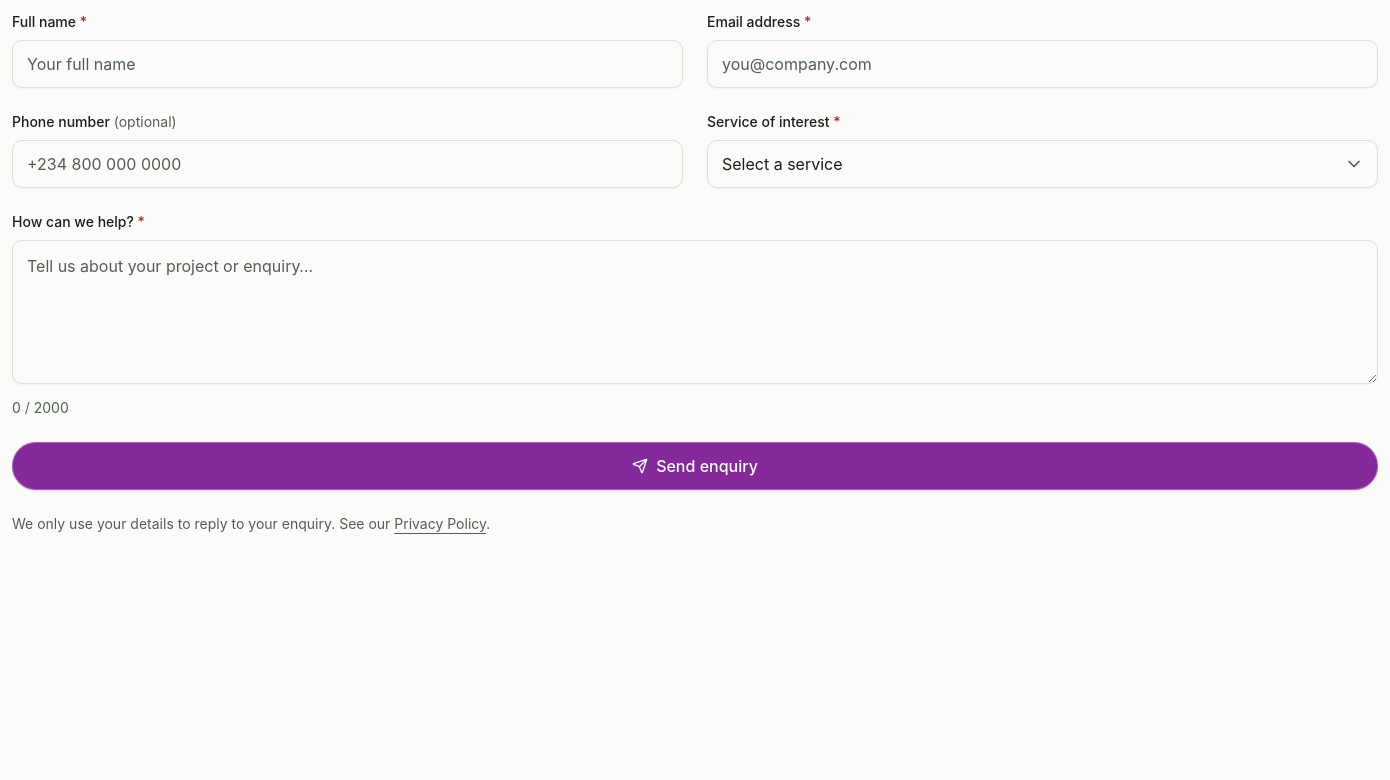
EnquiryForm: submission › shows a clear confirmation with the reference (scope 4.5)
Type "Ada Okafor" into the field labelled "Full name *".
click(348, 64); type("Ada Okafor")  # box [12,40,683,88]
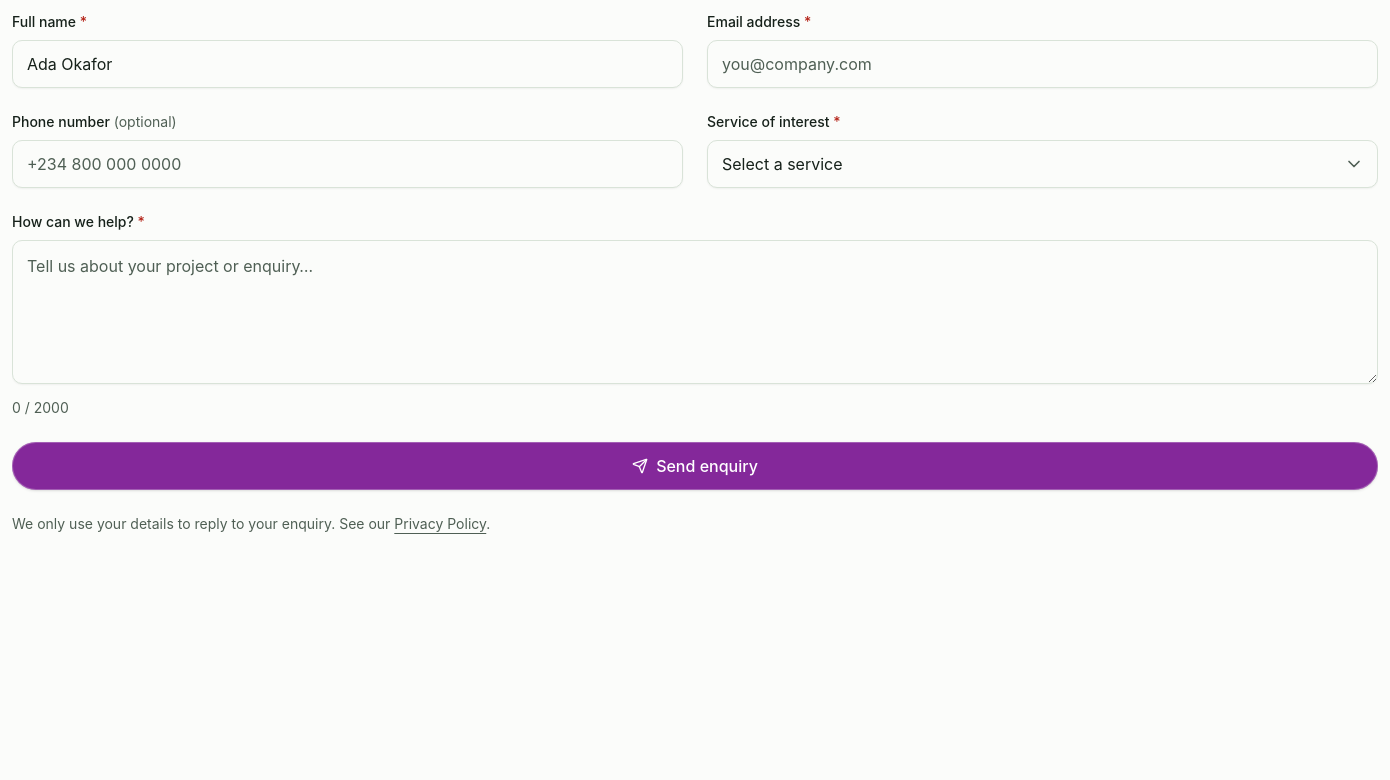
Type "ada@example.com" into the field labelled "Email address *".
click(1042, 64); type("ada@example.com")  # box [707,40,1378,88]
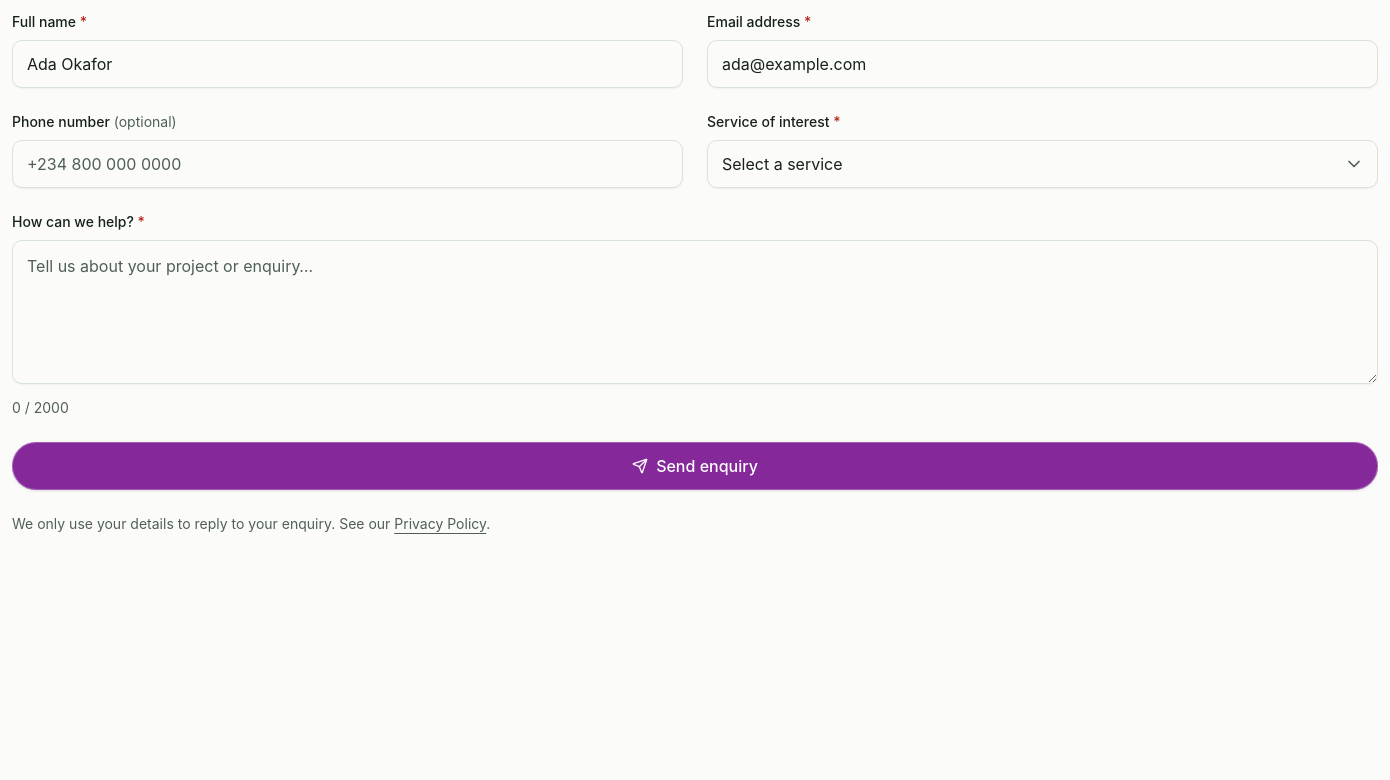
Select "Solar PV & Renewable Energy Solutions" in the dropdown labelled "Service of interest *" at (1042, 164), box [707,140,1378,188]
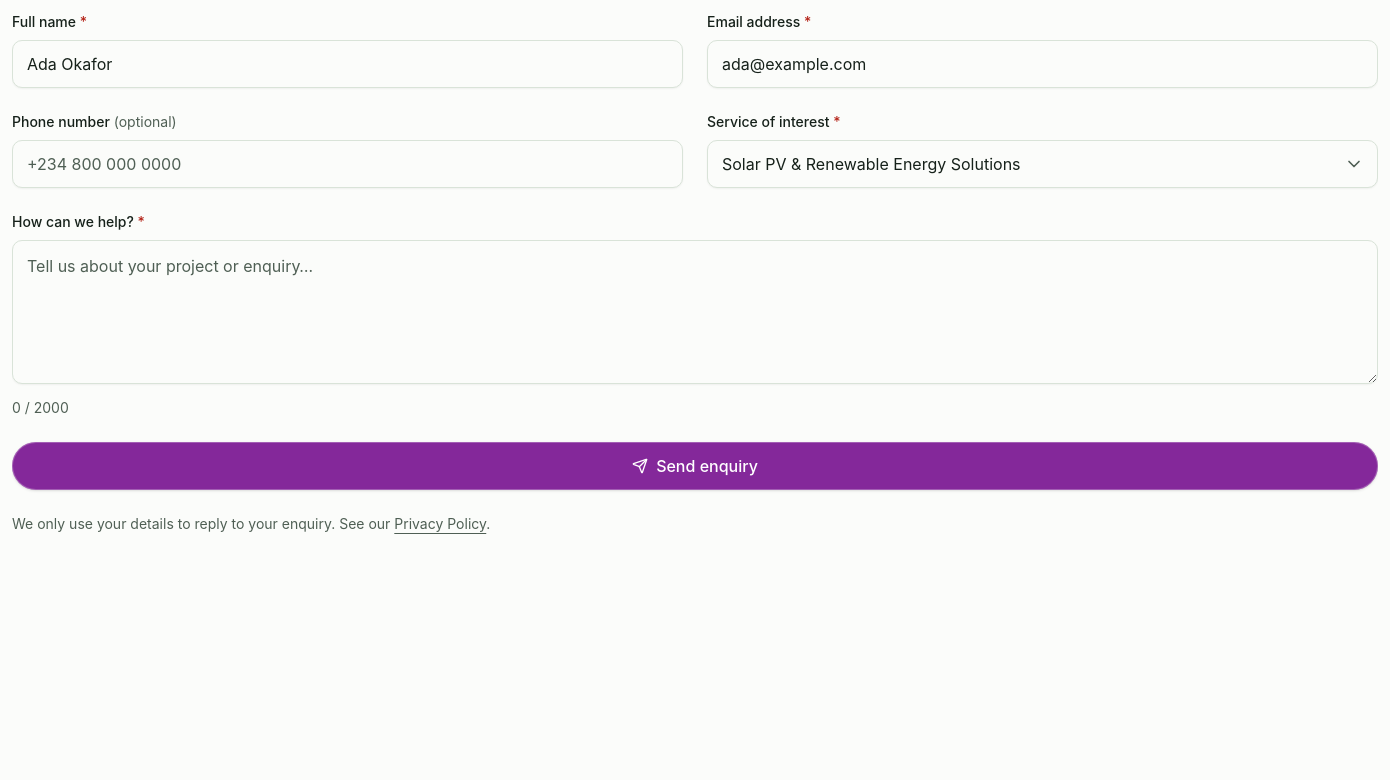
Type "We would like a solar quote for our mill." into the text box labelled "How can we help? *".
click(695, 312); type("We would like a solar quote for our mill.")  # box [12,240,1378,384]
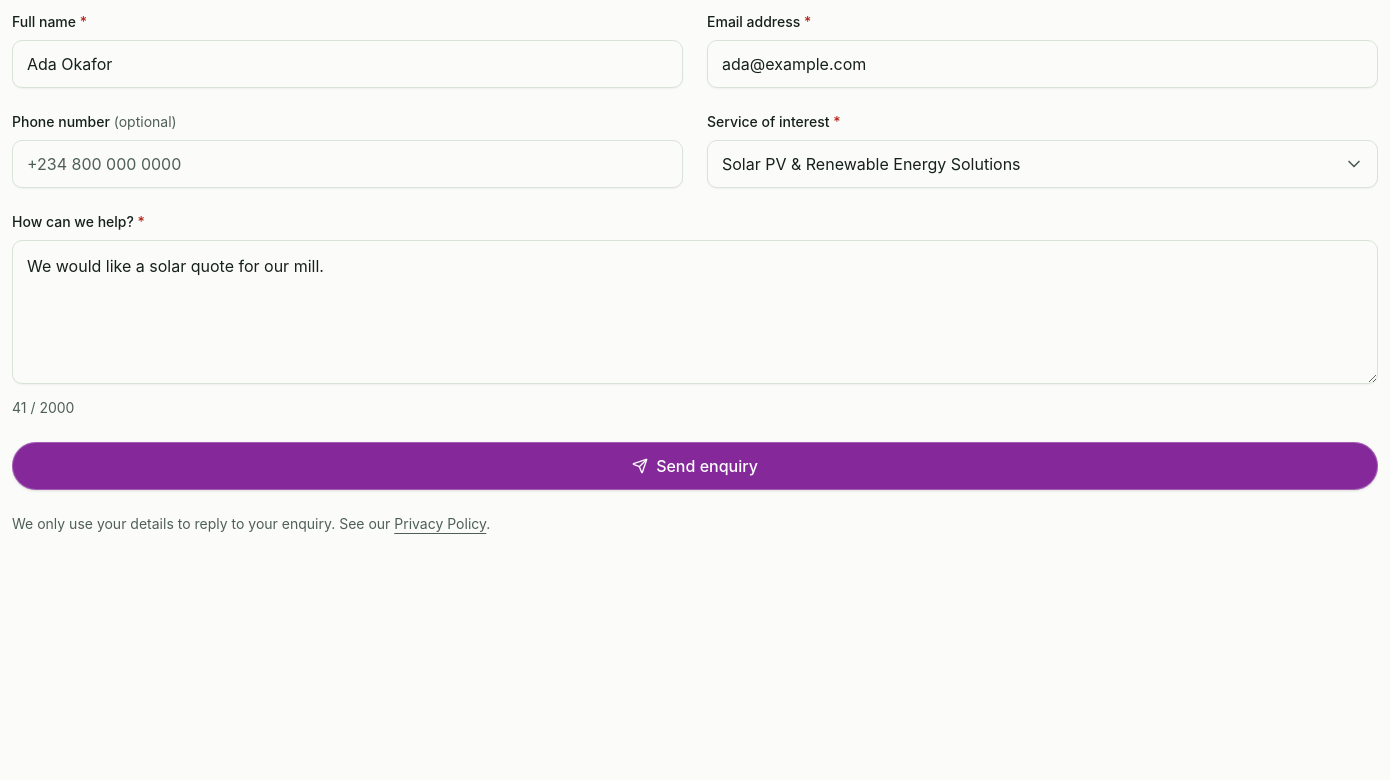
Click the button "Send enquiry".
click(695, 466)  # box [12,442,1378,490]
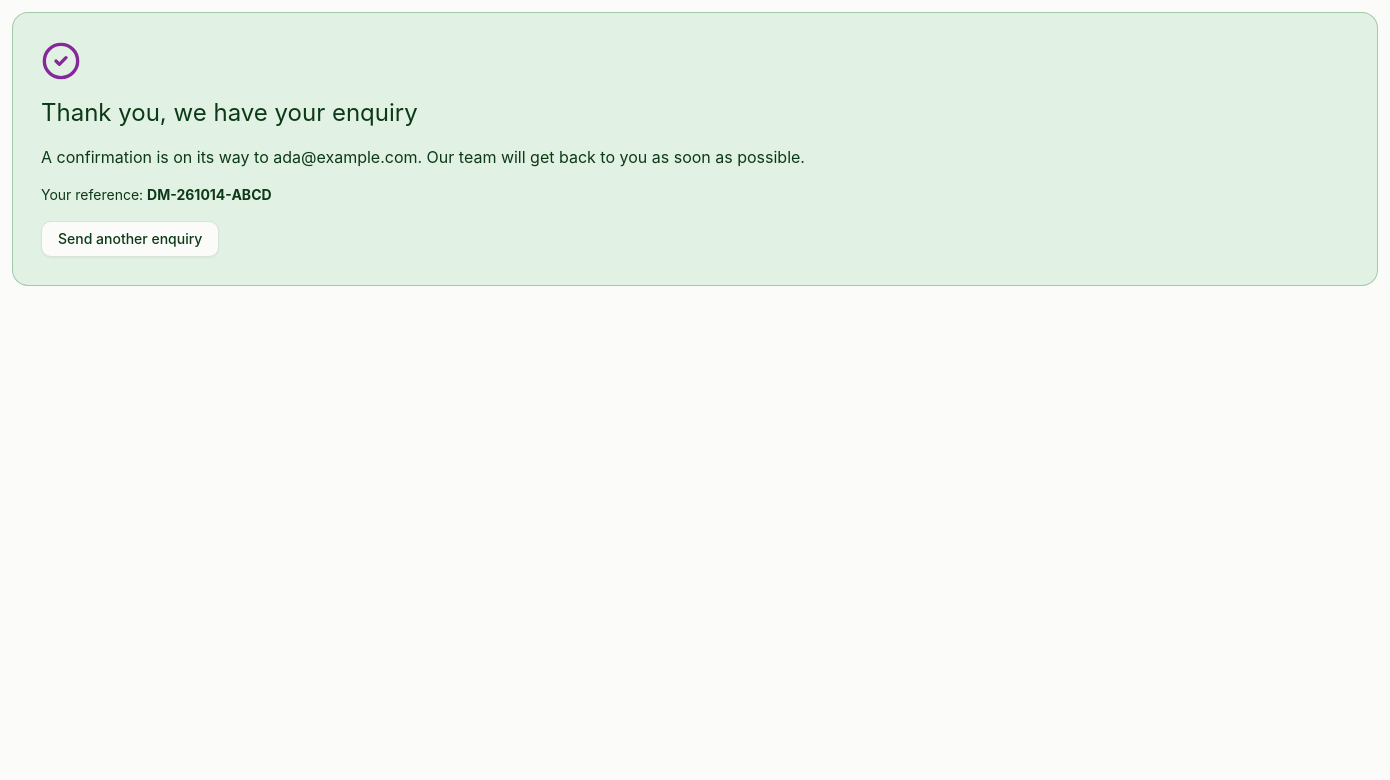
Check: the message with test id "enquiry-success" shows "ada@example.com", box [41,147,805,167]
Check: the text with test id "enquiry-reference" reads "DM-261014-ABCD", box [147,186,272,203]
Check: the button "Send enquiry" is gone
